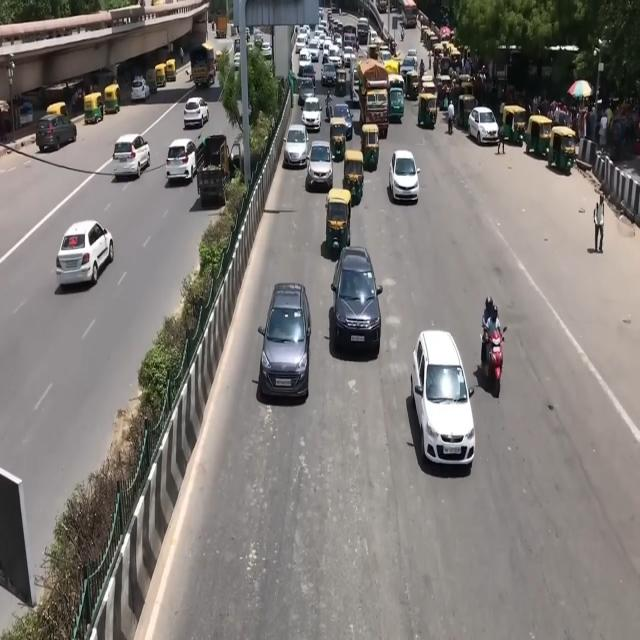auto: (325, 187, 352, 256), (549, 125, 577, 172), (343, 148, 365, 203), (525, 113, 551, 157), (501, 104, 527, 147), (361, 125, 380, 171), (400, 60, 421, 99), (417, 92, 438, 130), (330, 117, 348, 161), (458, 94, 478, 131), (84, 92, 104, 124), (436, 70, 452, 106), (104, 84, 120, 115), (335, 68, 350, 99), (47, 102, 67, 120), (146, 68, 158, 95), (164, 59, 177, 82), (155, 64, 167, 88), (215, 50, 222, 73)
bike-auto: (481, 321, 506, 388), (325, 91, 333, 120)
